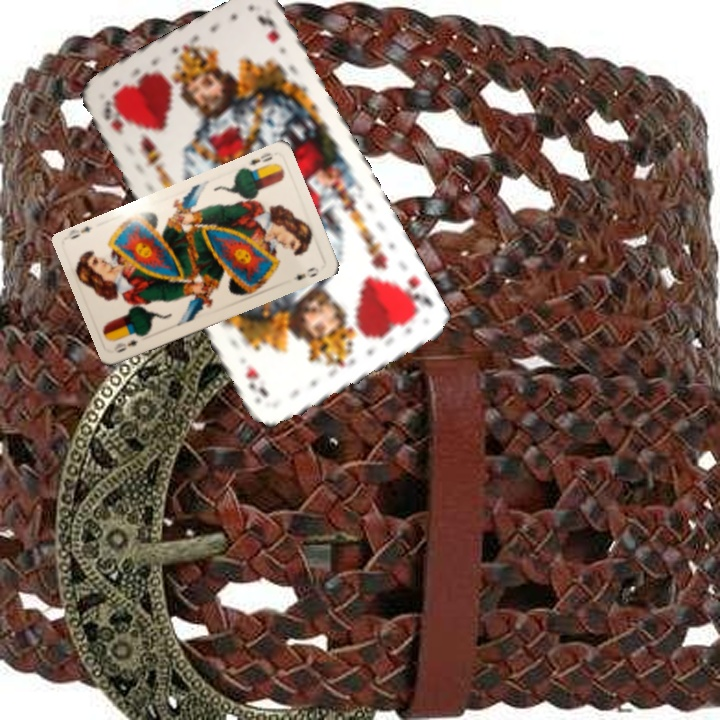EO: (240, 149, 279, 175), (110, 335, 140, 355)
HK: (392, 272, 437, 317), (99, 96, 126, 137)
